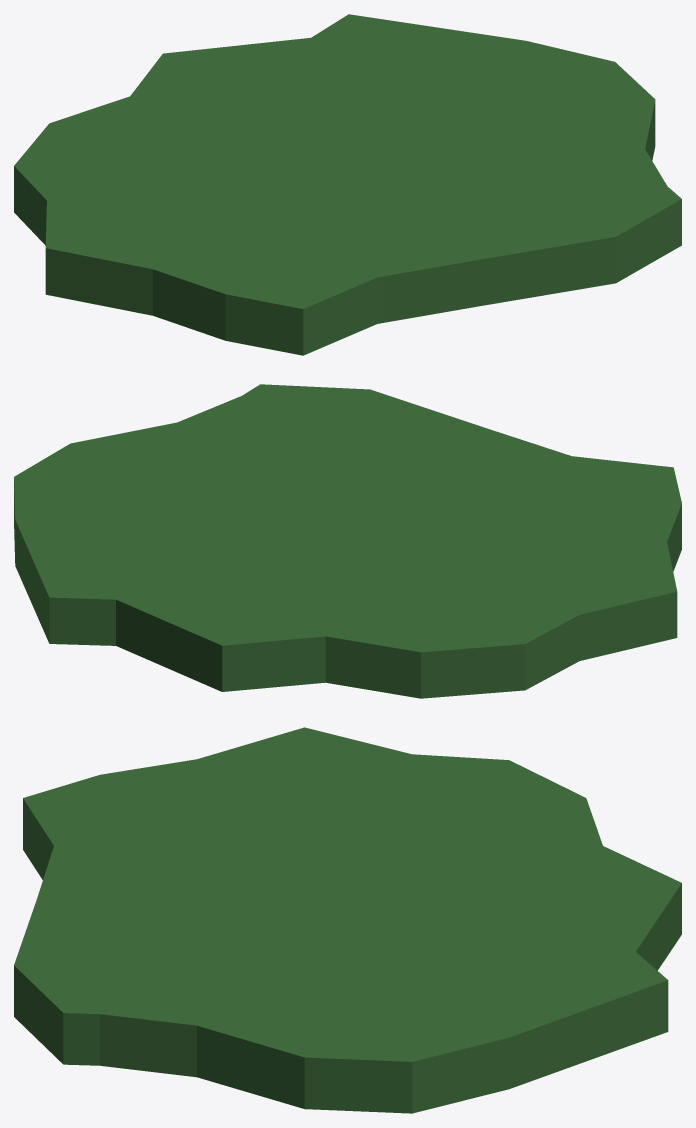
File: Ground.fbx
The picture shows the model from 3 angles, top to bottom: view 1: azimuth 30°, elevation 25°; view 2: azimuth 150°, elevation 25°; view 3: azimuth 270°, elevation 25°; orthographic projection. The views are drawn at different scales.
Parts seen in each view (by area): view 1: IslandShape2; view 2: IslandShape2; view 3: IslandShape2.
Part boxes in pixels (x1,y1,x2,y2): IslandShape2: (14,14,681,355); IslandShape2: (14,384,681,698); IslandShape2: (14,727,681,1113).
Size of the model in its own units: 23.86 by 1.72 by 20.13.
